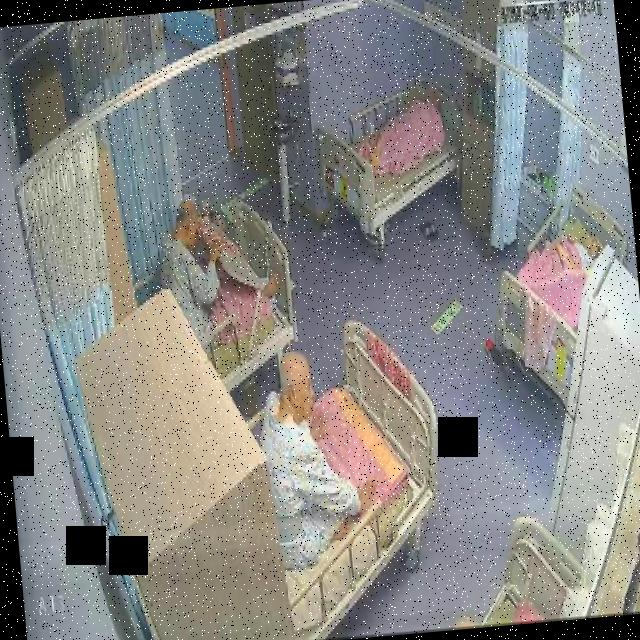bed: (254, 315, 455, 640), (483, 179, 640, 414), (160, 198, 301, 399), (312, 72, 466, 238)
lie: (526, 226, 608, 316)
patient: (252, 348, 364, 574), (158, 196, 284, 347), (568, 230, 606, 284)
sit: (254, 352, 363, 576), (157, 196, 285, 345)
